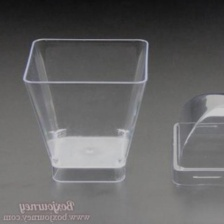glass: (17, 28, 152, 189)
